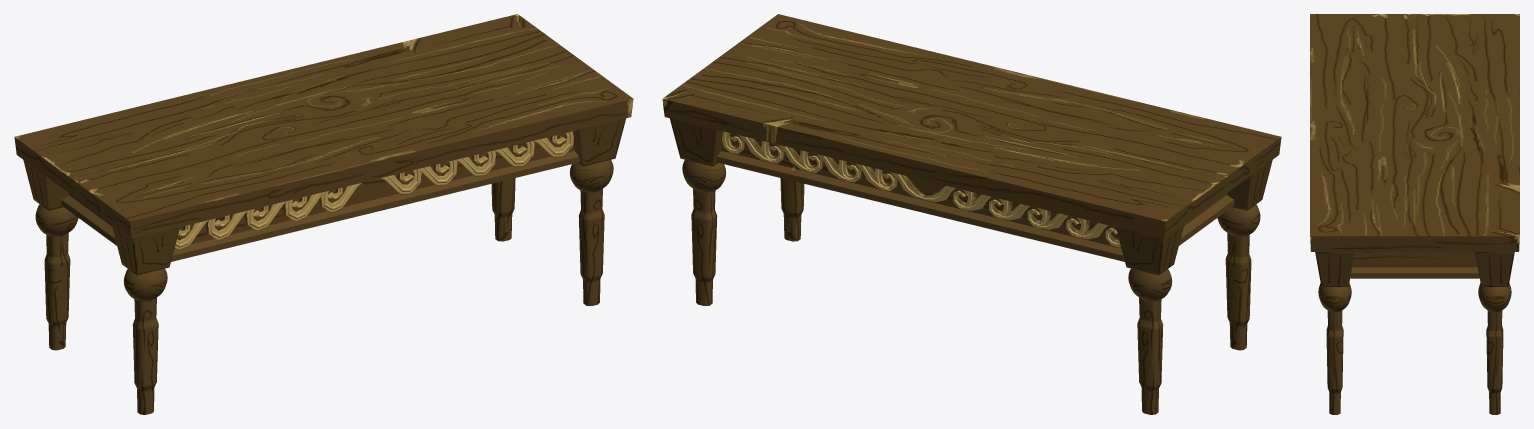
File: Masa_10_4_4.fbx
The picture shows the model from 3 angles, left to right: view 1: azimuth 30°, elevation 25°; view 2: azimuth 150°, elevation 25°; view 3: azimuth 270°, elevation 25°; orthographic projection. The views are drawn at different scales.
Visible parts, largest first — view 1: polySurface42, polySurface47, polySurface74, polySurface72, polySurface68, polySurface70, polySurface75, polySurface73, polySurface69, polySurface71, polySurface77; view 2: polySurface42, polySurface47, polySurface58, polySurface62, polySurface64, polySurface60, polySurface56, polySurface59, polySurface63, polySurface61, polySurface57; view 3: polySurface42, polySurface47.
Part boxes in pixels (<box>): polySurface42: <box>14,14,633,261</box>; polySurface47: <box>23,118,625,414</box>; polySurface74: <box>206,210,248,240</box>; polySurface72: <box>245,201,286,230</box>; polySurface68: <box>283,192,324,221</box>; polySurface70: <box>319,183,361,212</box>; polySurface75: <box>494,141,534,167</box>; polySurface73: <box>456,150,495,176</box>; polySurface69: <box>418,160,457,185</box>; polySurface71: <box>381,168,421,194</box>; polySurface77: <box>534,131,573,157</box>; polySurface42: <box>662,14,1281,261</box>; polySurface47: <box>670,118,1272,414</box>; polySurface58: <box>874,168,926,199</box>; polySurface62: <box>761,141,812,171</box>; polySurface64: <box>722,131,773,162</box>; polySurface60: <box>800,150,851,181</box>; polySurface56: <box>838,159,890,191</box>; polySurface59: <box>924,185,976,210</box>; polySurface63: <box>1036,213,1089,237</box>; polySurface61: <box>997,204,1051,228</box>; polySurface57: <box>959,194,1012,218</box>; polySurface42: <box>1310,14,1519,278</box>; polySurface47: <box>1315,252,1514,414</box>.
Bounding box in the file's own units: 10.16 × 4 × 4.05.
